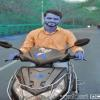motorcycles: (11, 48, 82, 100)
